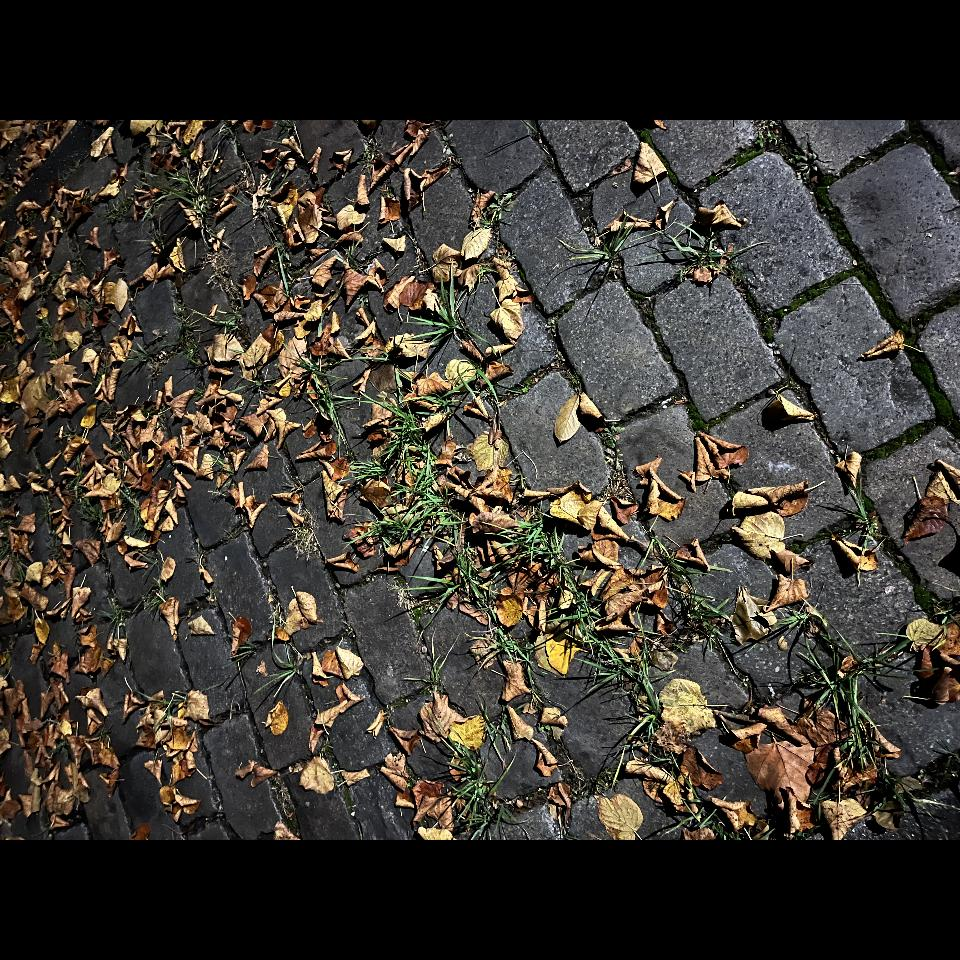weed: (495, 515, 661, 718), (352, 375, 472, 570), (783, 617, 910, 773), (147, 170, 216, 219), (427, 281, 469, 343), (675, 231, 734, 269), (574, 238, 628, 268)
